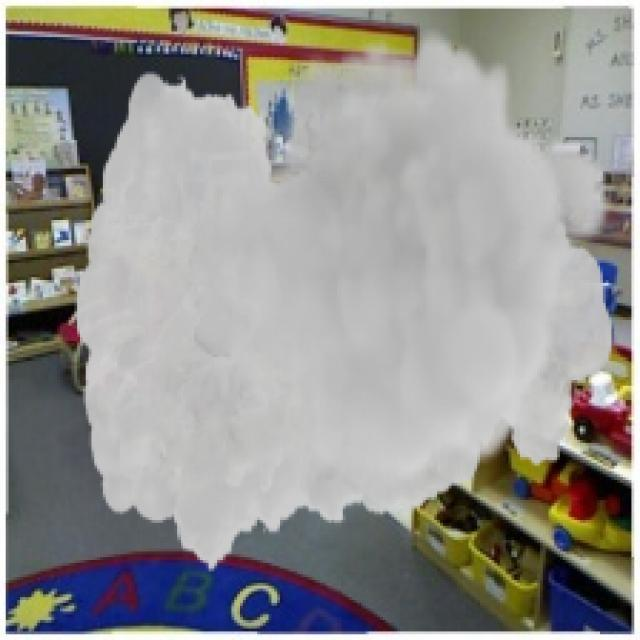Smoke: (75, 28, 614, 574)
